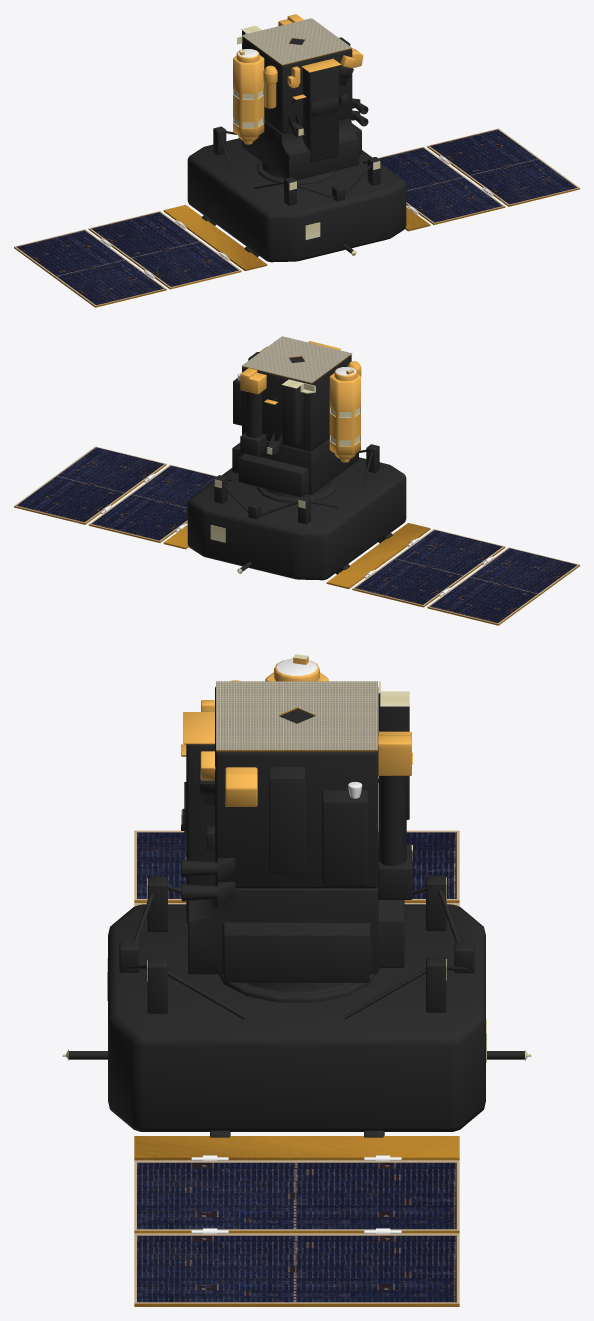
Rendered from original.glb.
3 renders of one model, top to bottom at view 1: azimuth 30°, elevation 25°; view 2: azimuth 150°, elevation 25°; view 3: azimuth 270°, elevation 25°, orthographic. The views are drawn at different scales.
Visible parts, largest first — view 1: BUS_black_krinkle, solar_cells, top_thing, foil_cylinder, orange_array_thing, gold_foil, brass; view 2: BUS_black_krinkle, solar_cells, top_thing, foil_cylinder, orange_array_thing, gold_foil, brass; view 3: BUS_black_krinkle, solar_cells, top_thing, orange_array_thing, gold_foil, foil_cylinder, brass.
Part boxes in pixels (x1,y1,x2,y2): BUS_black_krinkle: (187, 30, 406, 262); solar_cells: (14, 128, 579, 307); top_thing: (241, 18, 352, 65); foil_cylinder: (233, 49, 264, 144); orange_array_thing: (163, 205, 430, 270); gold_foil: (239, 14, 363, 108); brass: (237, 25, 380, 255); BUS_black_krinkle: (187, 352, 406, 580); solar_cells: (14, 446, 579, 625); top_thing: (241, 336, 352, 383); foil_cylinder: (329, 367, 360, 462); orange_array_thing: (163, 523, 430, 589); gold_foil: (240, 341, 361, 404); brass: (210, 369, 353, 573); BUS_black_krinkle: (69, 686, 524, 1131); solar_cells: (134, 830, 459, 1306); top_thing: (216, 681, 377, 751); orange_array_thing: (134, 1136, 459, 1160); gold_foil: (181, 657, 412, 806); foil_cylinder: (265, 658, 328, 681); brass: (62, 654, 531, 1062).
Bounding box in the file's own units: 9.43 × 3.78 × 3.95.
Materials: 7 (4 with a texture image).
